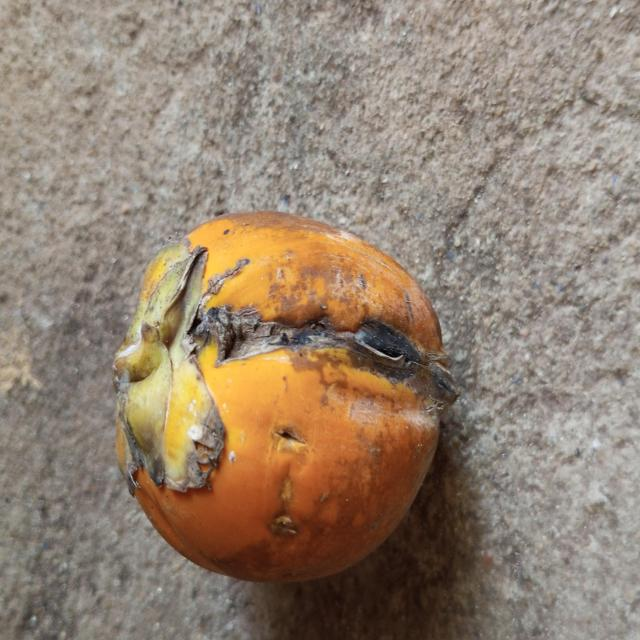damaged: (115, 212, 456, 581)
